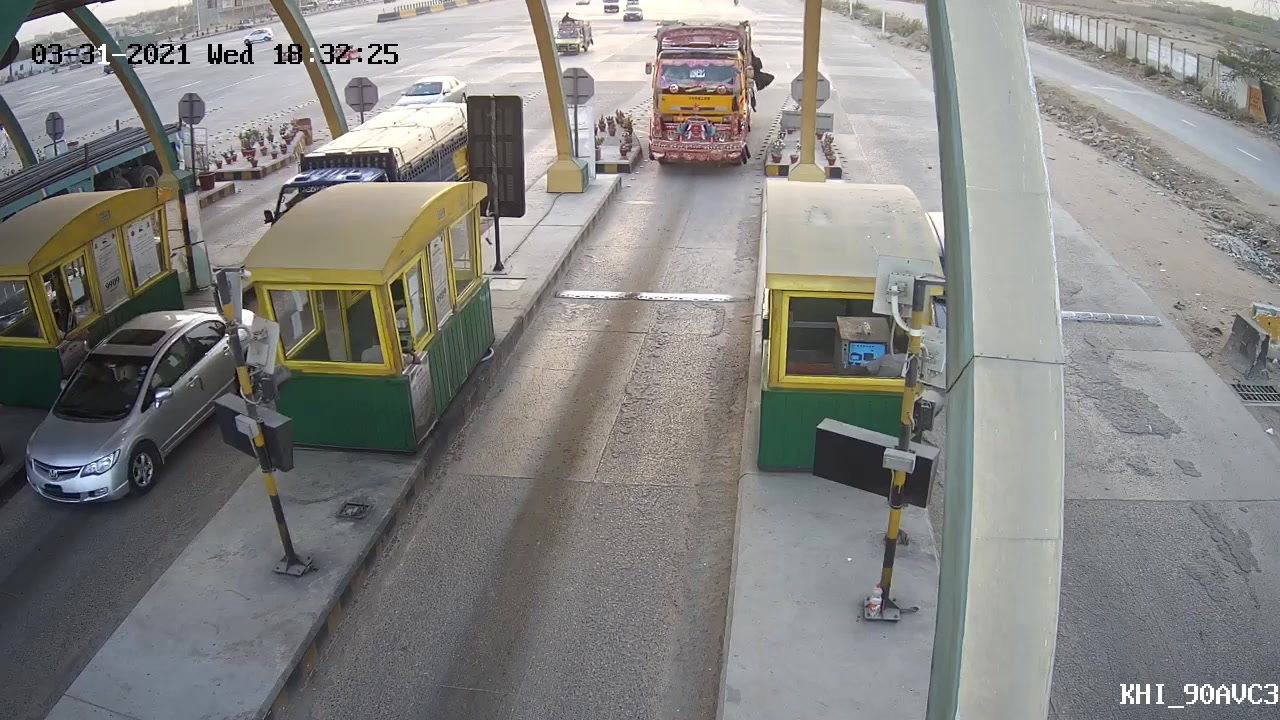F5: (640, 8, 771, 176)
